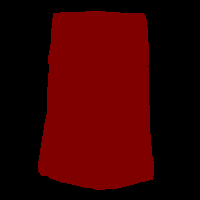mutande: (38, 11, 154, 190)
